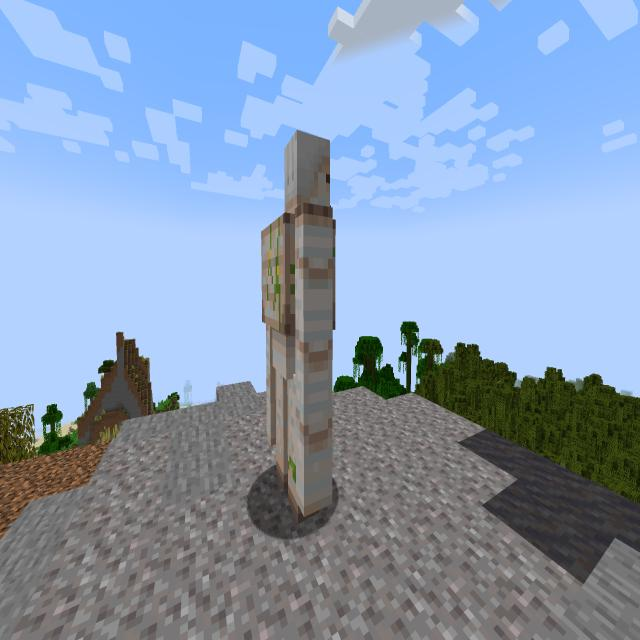iron golem: (255, 119, 348, 542)
